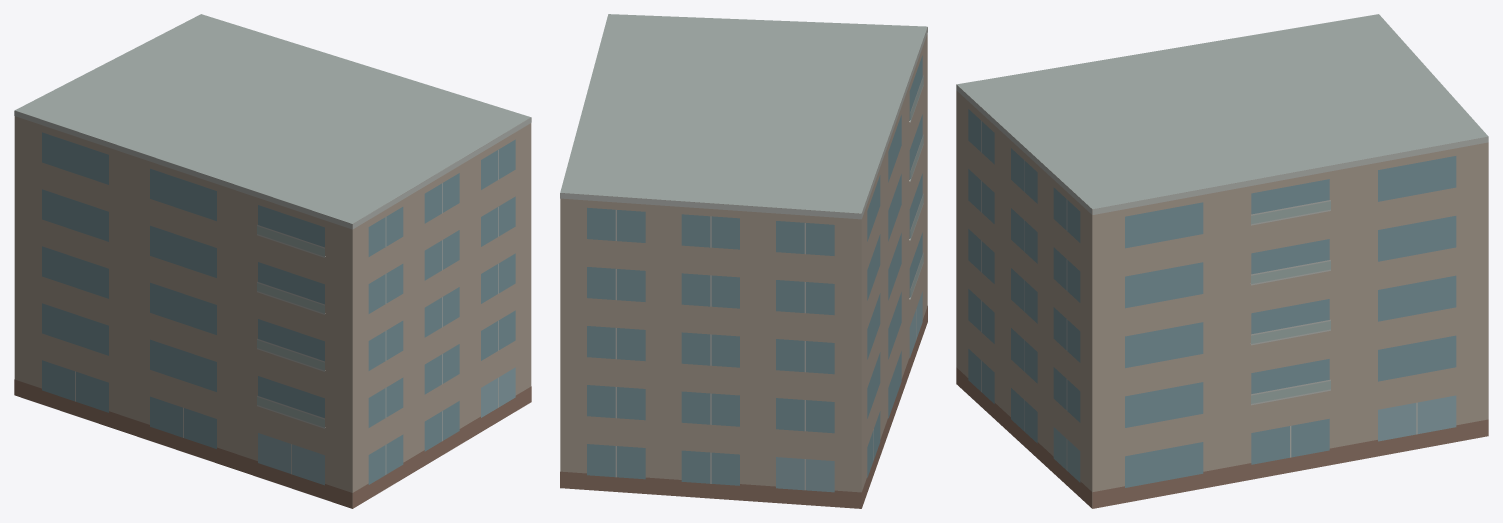
The model's file is survey-upis-32886508.glb.
3 renders of one model, left to right at view 1: azimuth 30°, elevation 25°; view 2: azimuth 150°, elevation 25°; view 3: azimuth 270°, elevation 25°, orthographic. The views are drawn at different scales.
Visible parts, largest first — view 1: survey-upis-32886508.tmp; view 2: survey-upis-32886508.tmp; view 3: survey-upis-32886508.tmp.
Part boxes in pixels (x1,y1,x2,y2): survey-upis-32886508.tmp: (14,14,531,508); survey-upis-32886508.tmp: (560,14,927,508); survey-upis-32886508.tmp: (956,14,1488,508).
Size of the model in its own units: 17.49 by 12.5 by 20.14.
